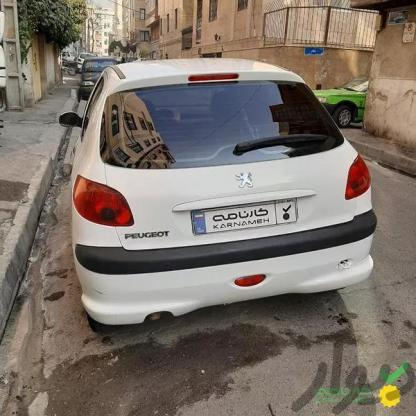Car: (82, 60, 363, 324), (300, 82, 375, 127), (59, 44, 121, 97)
